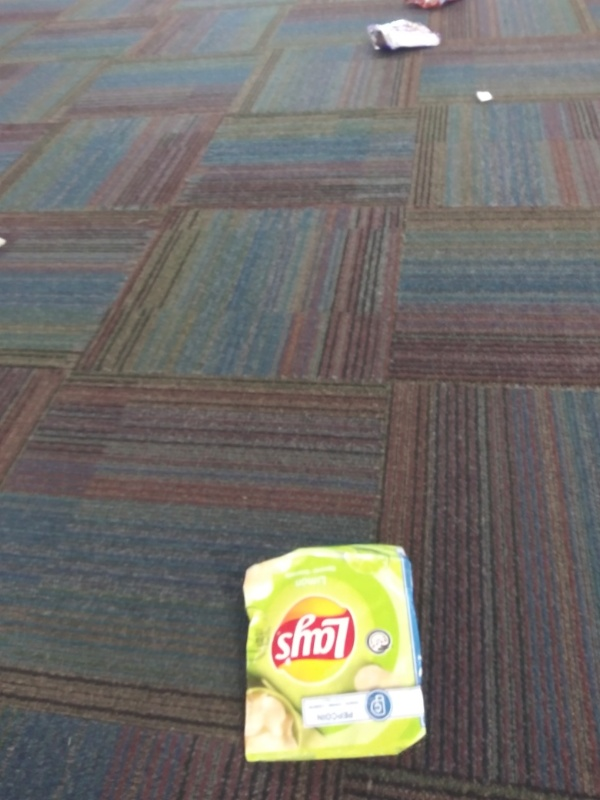bag: (228, 538, 436, 769), (361, 20, 452, 62)
